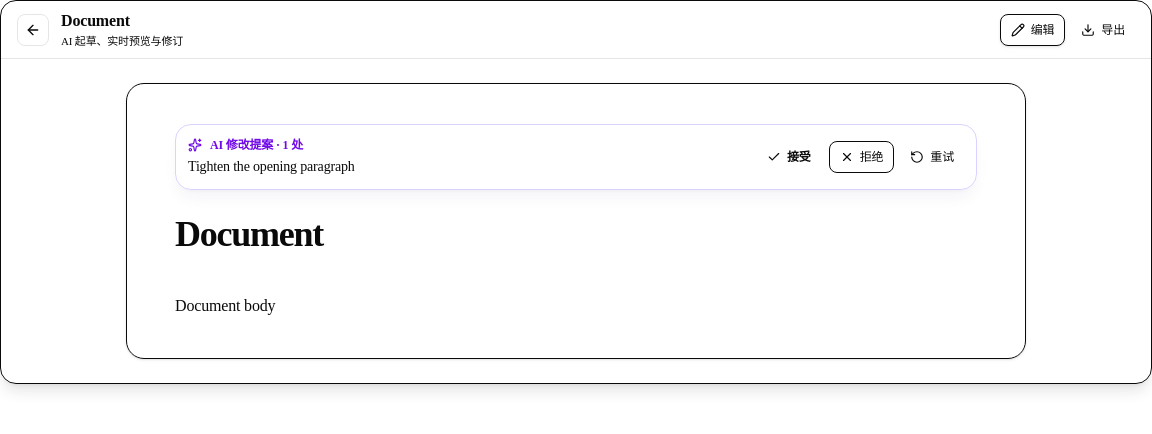
Test case: fails closed when a proposal targets an older revision
The image size is (1152, 434).
Click the button "接受": (789, 157) [755, 141, 823, 173]
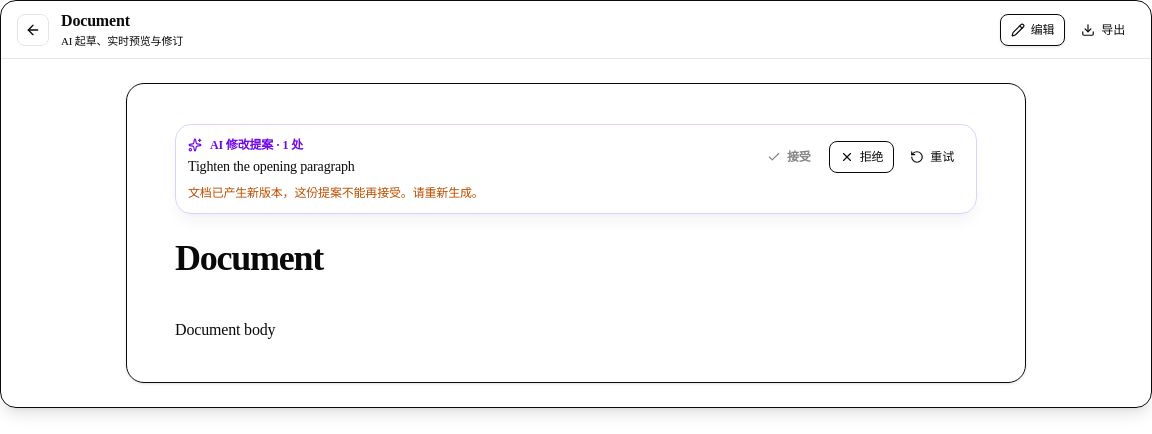
Check: the message shows "文档已产生新版本", box [188, 186, 484, 200]
